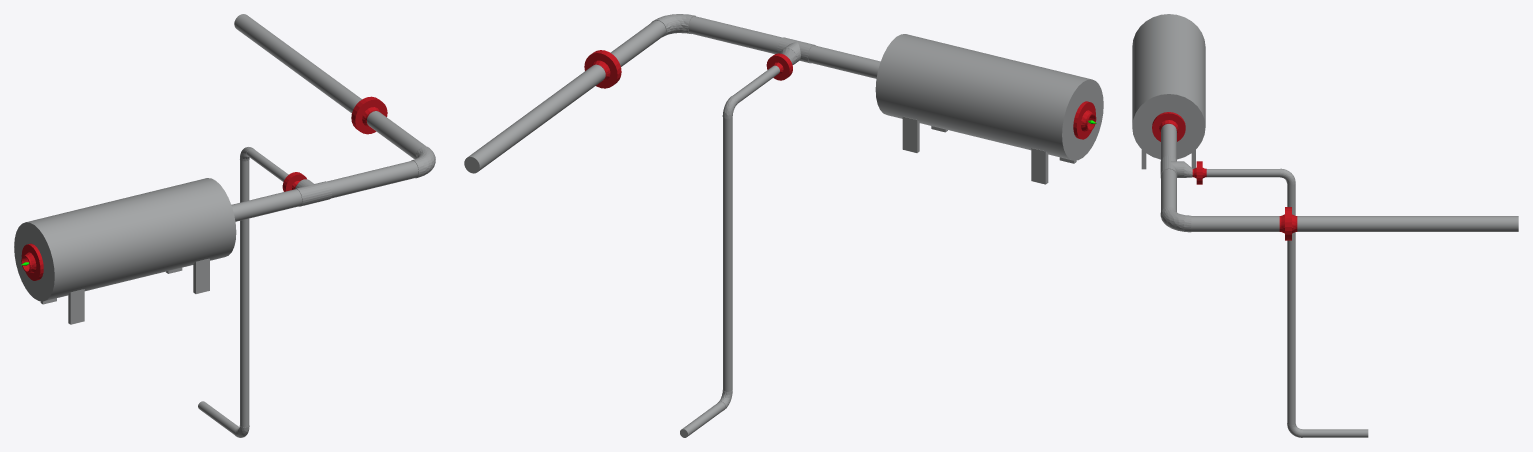
File: Phase04a3.fbx
3 views of the same model, side by side, from view 1: azimuth 30°, elevation 25°; view 2: azimuth 150°, elevation 25°; view 3: azimuth 270°, elevation 25° (orthographic). The views are drawn at different scales.
Parts seen in each view (by area): view 1: цилиндр:Фланец стальной плоский свободный:1299956, Типы трубопроводов:Труба 108х4-12х18н10т:1295687, Типы трубопроводов:Труба 108х4-12х18н10т:1296861, Типы трубопроводов:Труба 108х4-12х18н10т:1296777, Типы трубопроводов:Труба 108х4-12х18н10т:1296691, Типы трубопроводов:Труба 108х4-12х18н10т:1338188, CPS_фланец:Фланец стальной:1339167, СтальСварка_Тройник_ГОСТ17376-2001.0001:Исполнение 1_Неоцинк, Фланец_Тип01-11_ГОСТ 33259-2015_R2017 (1).0001:Фланец стальн, СтальСварка_Отвод_ГОСТ17375-2001:Исполнение 1_Неоцинкованные, Типы трубопроводов:Труба 108х4-12х18н10т:1338504, Типы трубопроводов:Труба 108х4-12х18н10т:1297179; view 2: цилиндр:Фланец стальной плоский свободный:1299956, Типы трубопроводов:Труба 108х4-12х18н10т:1295687, Типы трубопроводов:Труба 108х4-12х18н10т:1296861, Типы трубопроводов:Труба 108х4-12х18н10т:1296777, Типы трубопроводов:Труба 108х4-12х18н10т:1296691, Типы трубопроводов:Труба 108х4-12х18н10т:1338188, CPS_фланец, Фланец_Тип01-11_ГОСТ 33259-2015_R2017 (1).0001:Фланец стальн; view 3: цилиндр:Фланец стальной плоский свободный:1299956, Типы трубопроводов:Труба 108х4-12х18н10т:1295687, Типы трубопроводов:Труба 108х4-12х18н10т:1296861, Типы трубопроводов:Труба 108х4-12х18н10т:1338188, Типы трубопроводов:Труба 108х4-12х18н10т:1338504, Типы трубопроводов:Труба 108х4-12х18н10т:1296777, Типы трубопроводов:Труба 108х4-12х18н10т:1297179, Фланец_видимыйТип01-11_ГОСТ 33259-2015_R2017:Фланец стальной, СтальСварка_Отвод_ГОСТ17375-2001:Исполнение 1_Неоцинкованные, Типы трубопроводов:Труба 108х4-12х18н10т:1296691, СтальСварка_Тройник_ГОСТ17376-2001.0001:Исполнение 1_Неоцинк.
Part boxes in pixels (<box>): цилиндр:Фланец стальной плоский свободный:1299956: <box>14,178,236,324</box>; Типы трубопроводов:Труба 108х4-12х18н10т:1295687: <box>234,14,361,113</box>; Типы трубопроводов:Труба 108х4-12х18н10т:1296861: <box>240,160,249,427</box>; Типы трубопроводов:Труба 108х4-12х18н10т:1296777: <box>327,160,418,198</box>; Типы трубопроводов:Труба 108х4-12х18н10т:1296691: <box>231,189,301,221</box>; Типы трубопроводов:Труба 108х4-12х18н10т:1338188: <box>367,111,425,159</box>; CPS_фланец:Фланец стальной:1339167: <box>353,98,387,134</box>; СтальСварка_Тройник_ГОСТ17376-2001.0001:Исполнение 1_Неоцинк: <box>295,179,331,206</box>; Фланец_Тип01-11_ГОСТ 33259-2015_R2017 (1).0001:Фланец стальн: <box>21,243,43,280</box>; СтальСварка_Отвод_ГОСТ17375-2001:Исполнение 1_Неоцинкованные: <box>411,146,435,178</box>; Типы трубопроводов:Труба 108х4-12х18н10т:1338504: <box>247,148,288,181</box>; Типы трубопроводов:Труба 108х4-12х18н10т:1297179: <box>198,401,239,434</box>; цилиндр:Фланец стальной плоский свободный:1299956: <box>875,34,1103,184</box>; Типы трубопроводов:Труба 108х4-12х18н10т:1295687: <box>464,64,605,173</box>; Типы трубопроводов:Труба 108х4-12х18н10т:1296861: <box>723,117,732,391</box>; Типы трубопроводов:Труба 108х4-12х18н10т:1296777: <box>688,16,782,53</box>; Типы трубопроводов:Труба 108х4-12х18н10т:1296691: <box>808,45,880,78</box>; Типы трубопроводов:Труба 108х4-12х18н10т:1338188: <box>610,20,665,66</box>; CPS_фланец: <box>584,51,619,88</box>; Фланец_Тип01-11_ГОСТ 33259-2015_R2017 (1).0001:Фланец стальн: <box>1073,101,1096,139</box>; цилиндр:Фланец стальной плоский свободный:1299956: <box>1132,14,1205,169</box>; Типы трубопроводов:Труба 108х4-12х18н10т:1295687: <box>1297,216,1518,231</box>; Типы трубопроводов:Труба 108х4-12х18н10т:1296861: <box>1287,184,1295,425</box>; Типы трубопроводов:Труба 108х4-12х18н10т:1338188: <box>1191,216,1279,231</box>; Типы трубопроводов:Труба 108х4-12х18н10т:1338504: <box>1206,169,1280,177</box>; Типы трубопроводов:Труба 108х4-12х18н10т:1296777: <box>1161,169,1176,211</box>; Типы трубопроводов:Труба 108х4-12х18н10т:1297179: <box>1302,429,1368,437</box>; Фланец_видимыйТип01-11_ГОСТ 33259-2015_R2017:Фланец стальной: <box>1152,112,1185,141</box>; СтальСварка_Отвод_ГОСТ17375-2001:Исполнение 1_Неоцинкованные: <box>1160,207,1191,232</box>; Типы трубопроводов:Труба 108х4-12х18н10т:1296691: <box>1161,124,1176,160</box>; СтальСварка_Тройник_ГОСТ17376-2001.0001:Исполнение 1_Неоцинк: <box>1160,155,1184,177</box>.
Bounding box in the file's own units: 3064 × 2635 × 2265.
